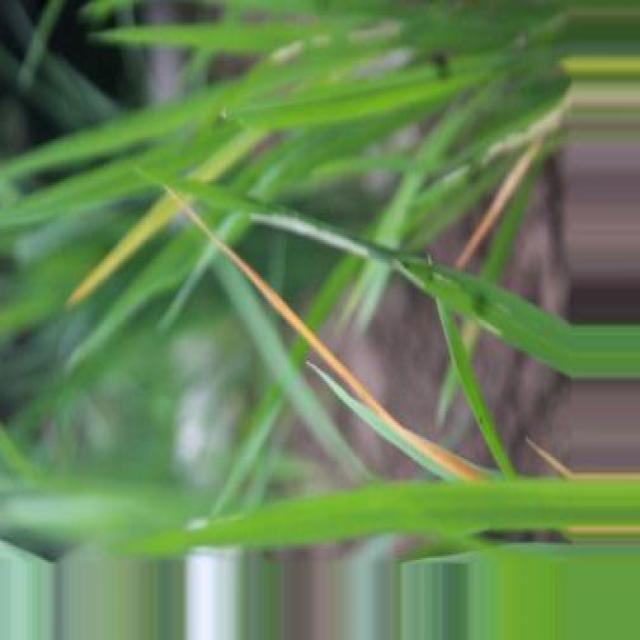Rice Tungro: (166, 188, 482, 481), (68, 195, 180, 305), (454, 137, 541, 269), (190, 133, 266, 181)
